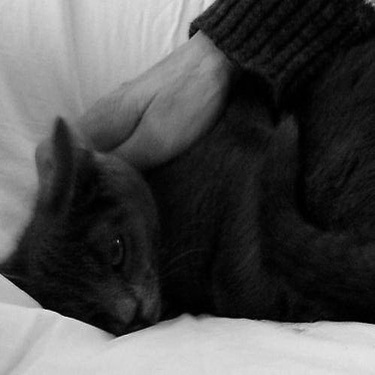cat: (1, 65, 371, 334)
